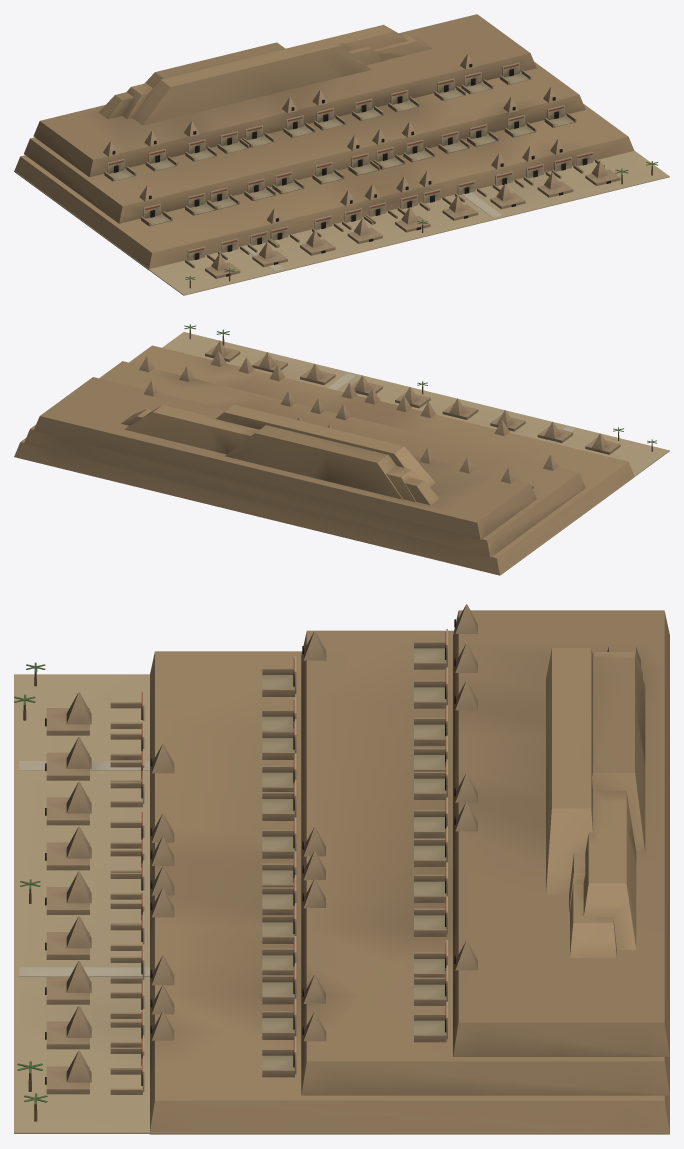
The model's file is nobles-tombs.glb.
The picture shows the model from 3 angles, top to bottom: view 1: azimuth 30°, elevation 25°; view 2: azimuth 150°, elevation 25°; view 3: azimuth 270°, elevation 25°; orthographic projection. The views are drawn at different scales.
Visible parts, largest first — view 1: p0_hill, p1_tombs, p2_pyramids; view 2: p0_hill, p2_pyramids, p1_tombs; view 3: p0_hill, p1_tombs, p2_pyramids.
Part boxes in pixels (x1,y1,x2,y2): p0_hill: [14, 14, 669, 295]; p1_tombs: [104, 62, 620, 278]; p2_pyramids: [103, 53, 608, 270]; p0_hill: [14, 332, 669, 575]; p2_pyramids: [139, 340, 608, 483]; p1_tombs: [205, 345, 620, 488]; p0_hill: [14, 610, 669, 1134]; p1_tombs: [45, 629, 447, 1094]; p2_pyramids: [66, 604, 477, 1082].
Bounding box in the file's own units: 200 × 29.98 × 121.
